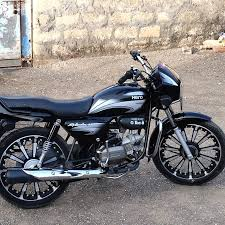bike: (2, 50, 222, 214)
